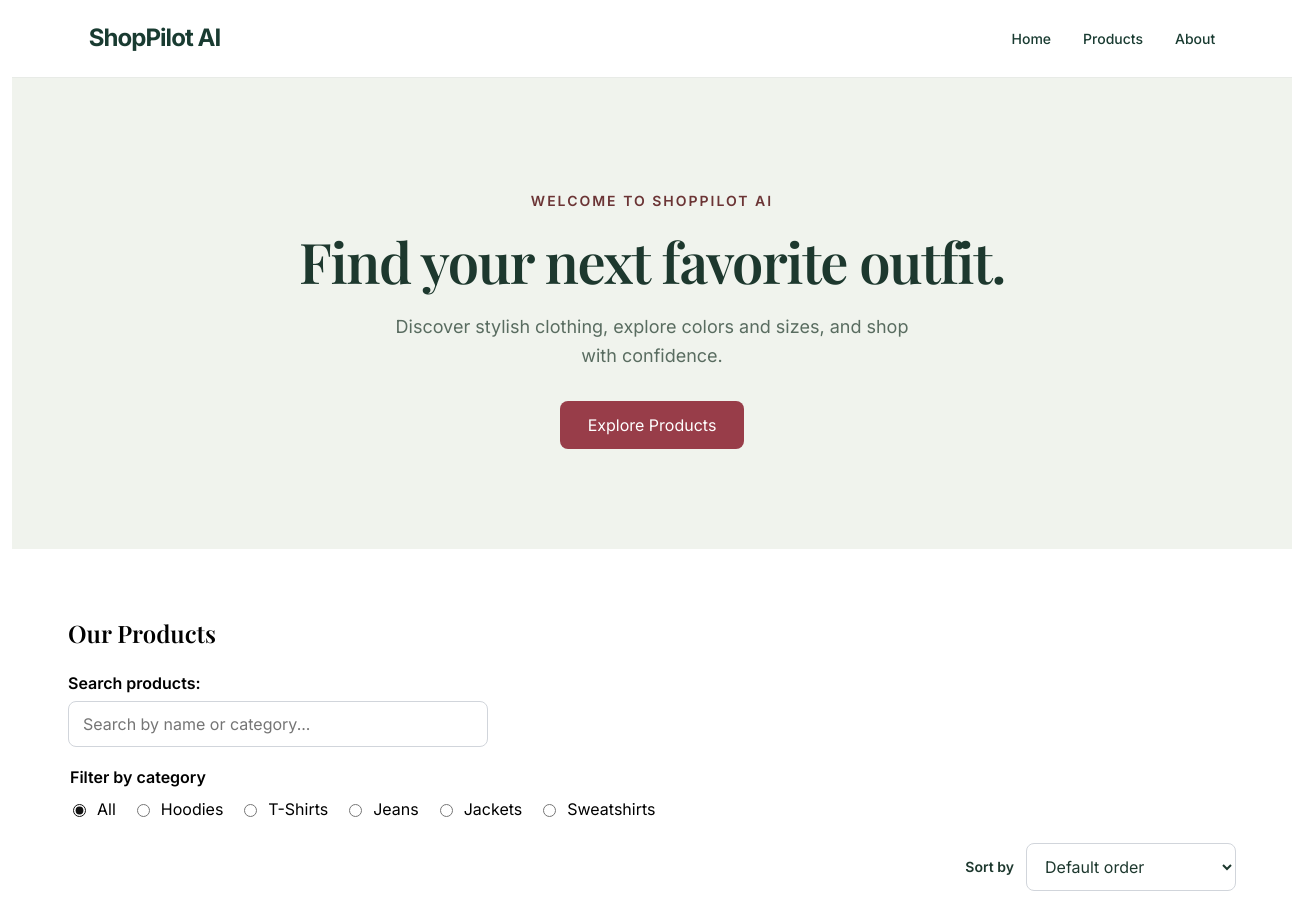
Test: Product catalog › shows a message when no products match
This screenshot has width=1292, height=900.
Type "zzzz-no-match-12345" into the search field labelled "Search products:". click: x=278, y=724
box: [68,701,488,747]
(page scrolled)
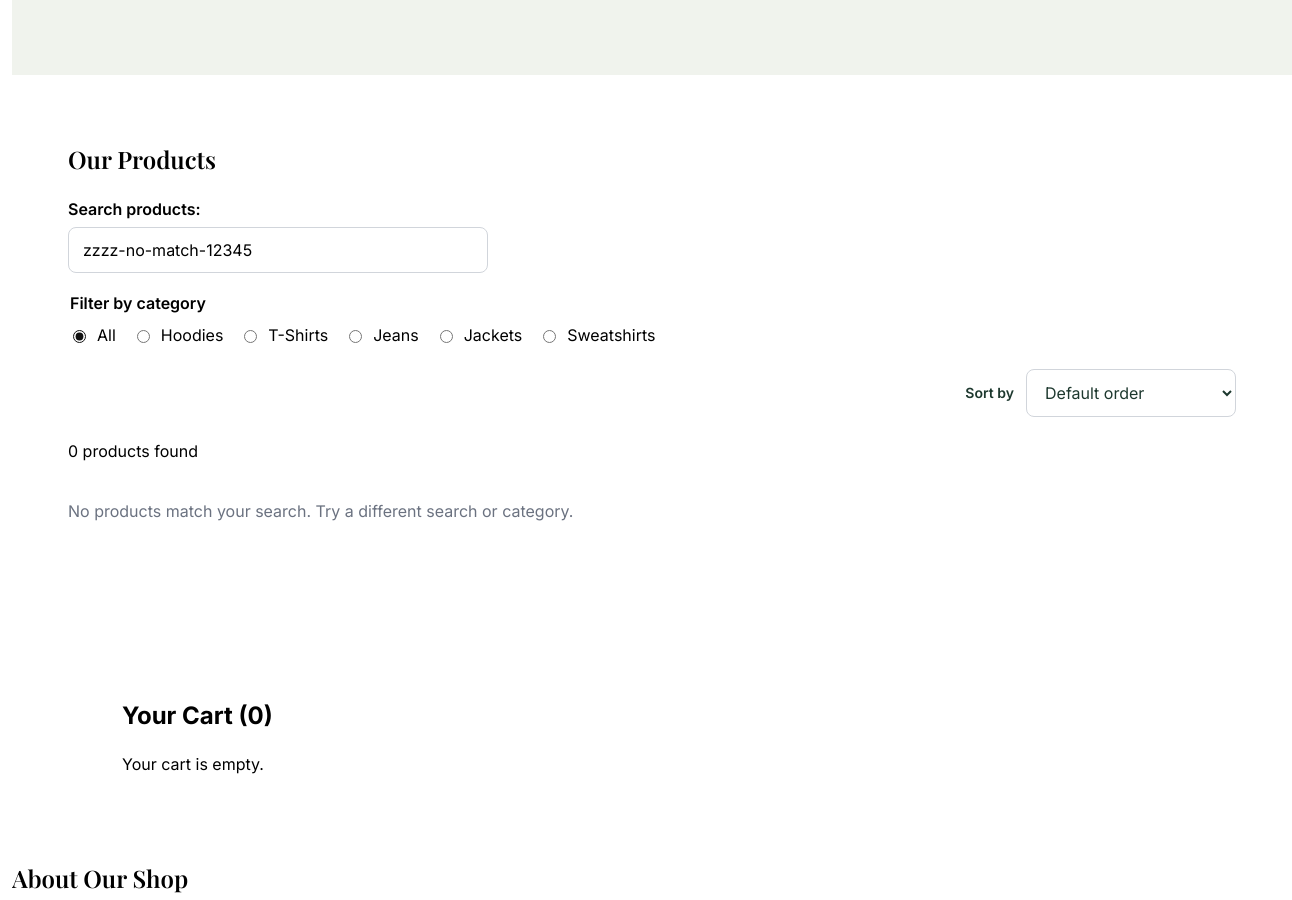
Now the text "No products match your search" is shown, box [68,501,573,521]
Now the text "0 products found" is shown, box [68,441,198,461]
